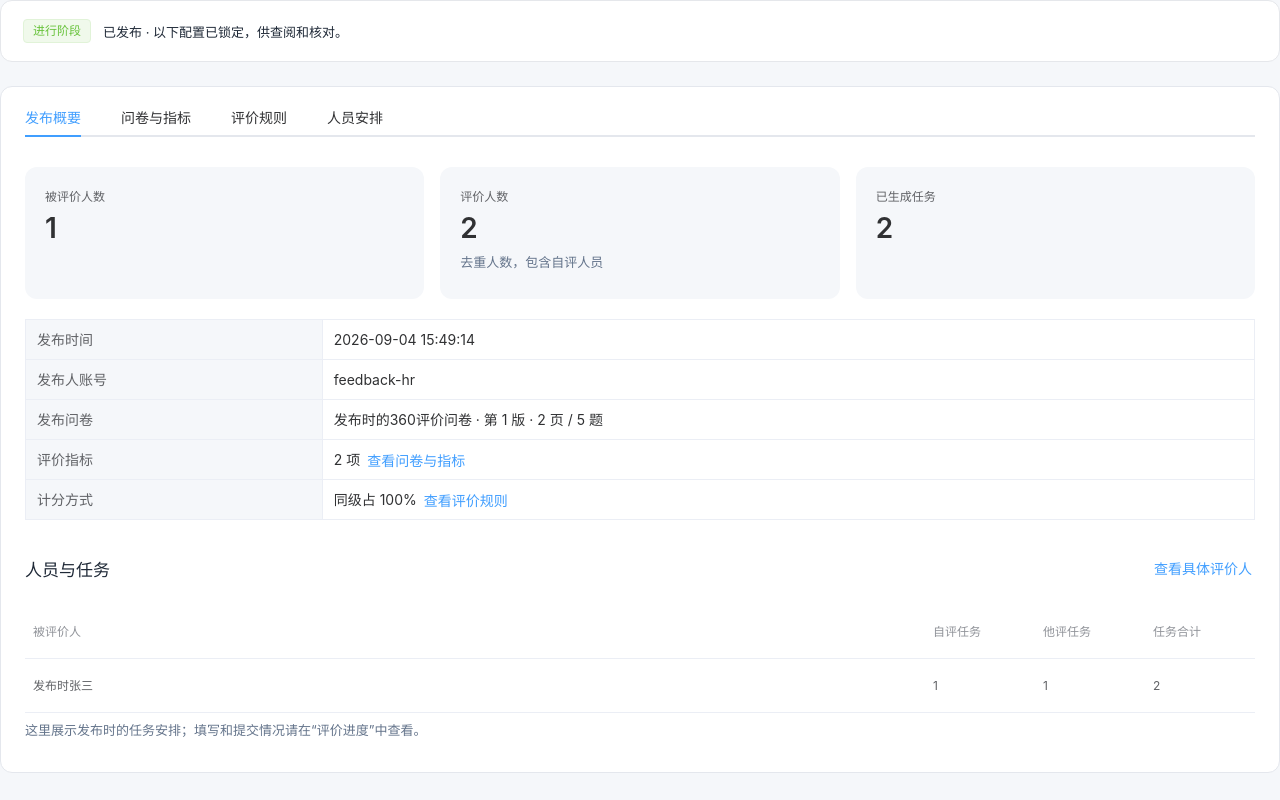
Test: 冻结问卷展示五题型、指标权重和跨页绑定定位，不出现答题或编辑控件
Click the tab "问卷与指标" at (156, 118), box [121,109,191,126]
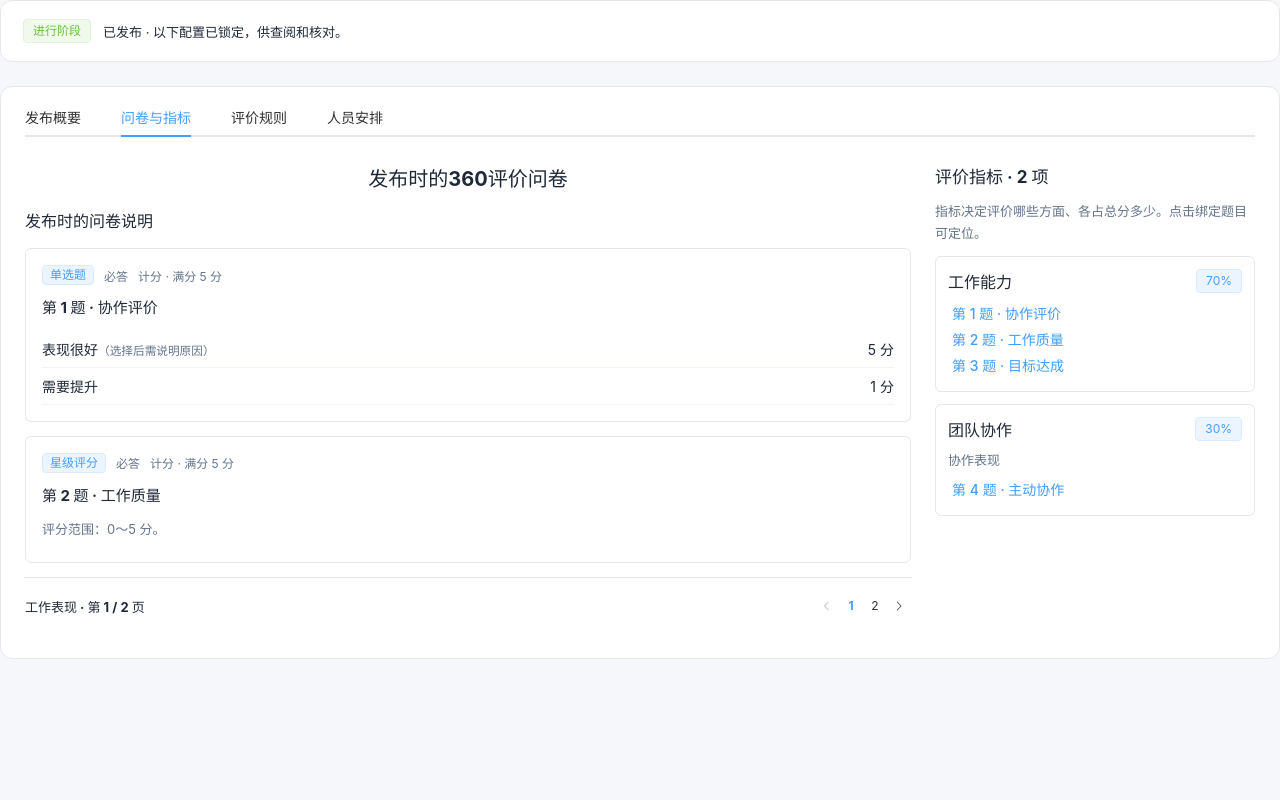
Expected: the text "选择后需说明原因" is shown, [98,344,215,358]
Expected: the text "70%" is shown, [1206,275,1232,287]
Click the button "第 3 题 · 目标达成" at (1008, 366), box [948,353,1242,379]
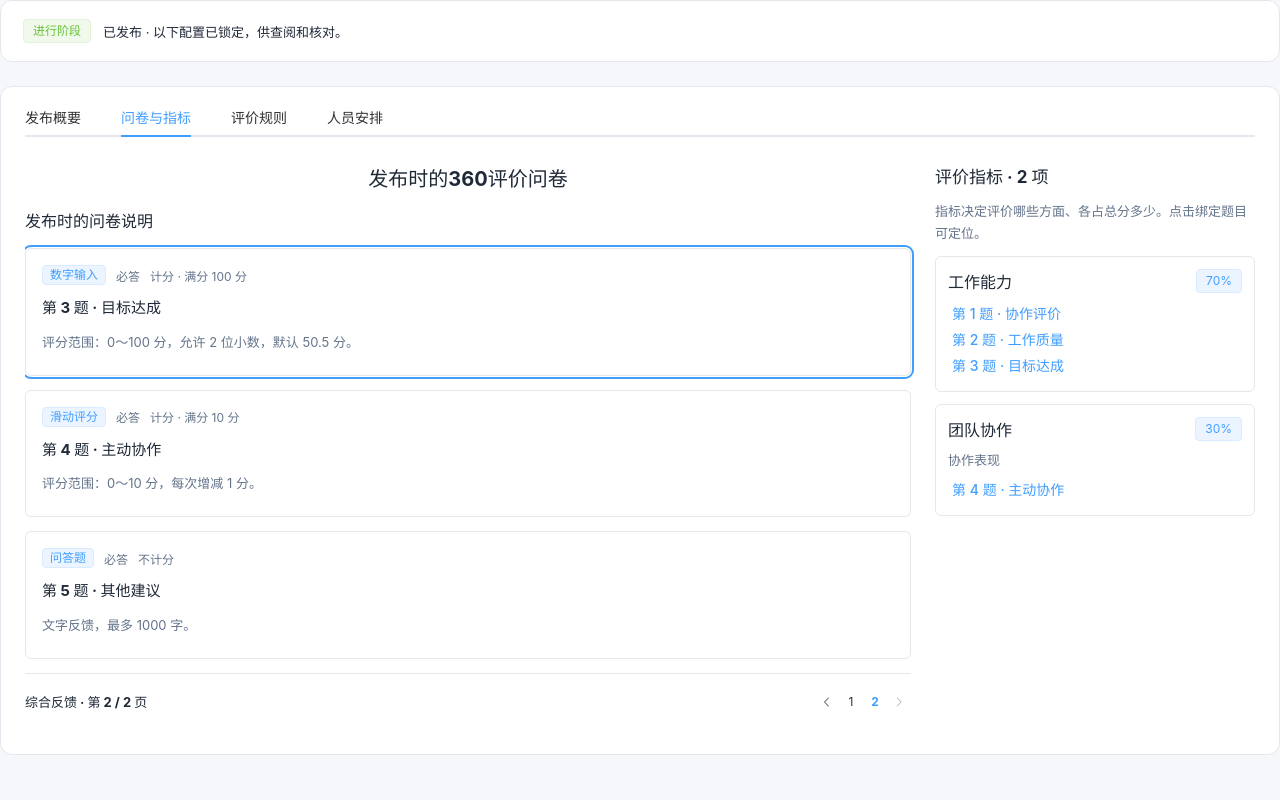
Expected: the element with class "highlighted" shows "第 3 题 · 目标达成", [42,298,161,317]
Expected: the element with class "highlighted" shows "默认 50.5 分", [260,334,346,350]
Expected: the element with class "frozen-questionnaire" shows "每次增减 1 分", [158,475,249,491]
